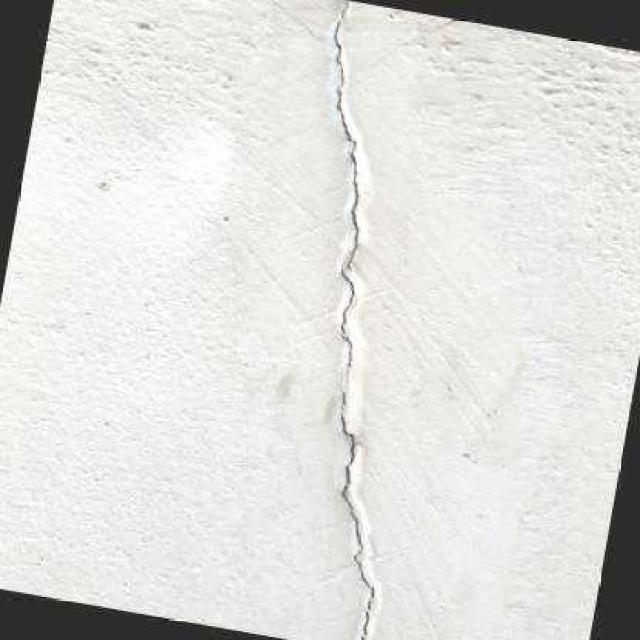D00: (336, 370, 373, 640), (332, 0, 358, 269), (336, 266, 356, 386)
